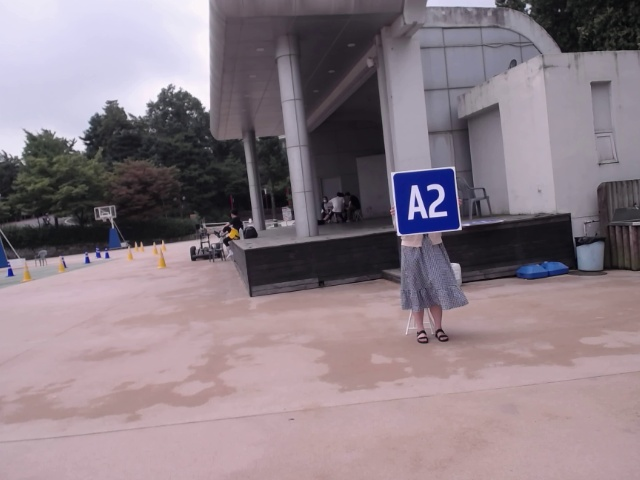delivery_a2: (392, 166, 462, 236)
